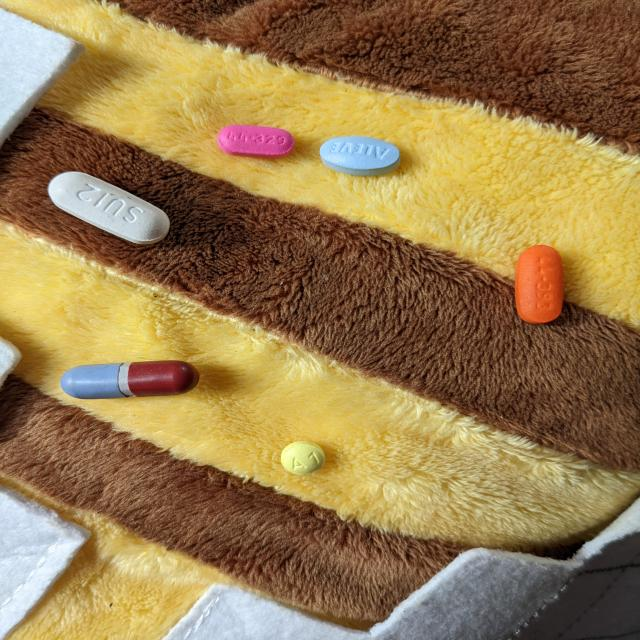non-organic waste: (47, 170, 172, 247), (60, 359, 200, 400), (513, 244, 565, 325), (318, 135, 403, 178), (217, 124, 296, 160), (280, 440, 326, 476)
